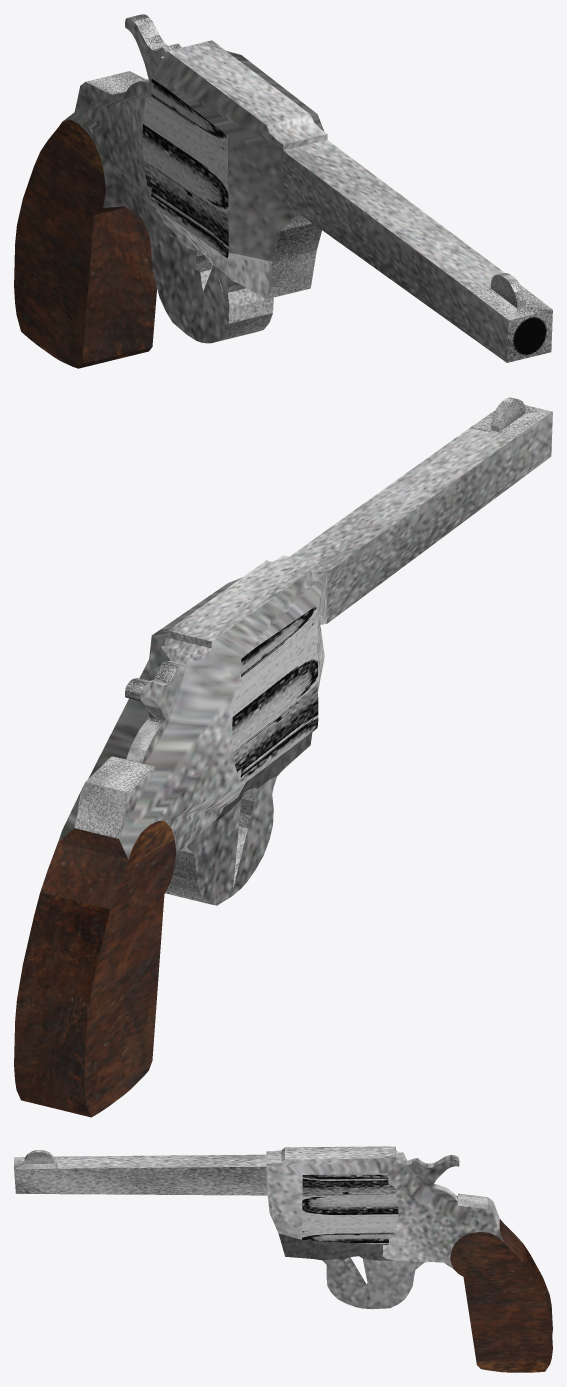
File: psx_pistol.fbx
3 renders of one model, top to bottom at view 1: azimuth 30°, elevation 25°; view 2: azimuth 150°, elevation 25°; view 3: azimuth 270°, elevation 25°, orthographic. The views are drawn at different scales.
Parts seen in each view (by area): view 1: Plane; view 2: Plane; view 3: Plane.
Boxes of the visible parts, bbox=[...] form: Plane: bbox=[14, 14, 552, 368]; Plane: bbox=[14, 397, 552, 1117]; Plane: bbox=[14, 1146, 552, 1372].
Size of the model in its own units: 46 by 186 by 428.
Materials: 1 (1 with a texture image).
